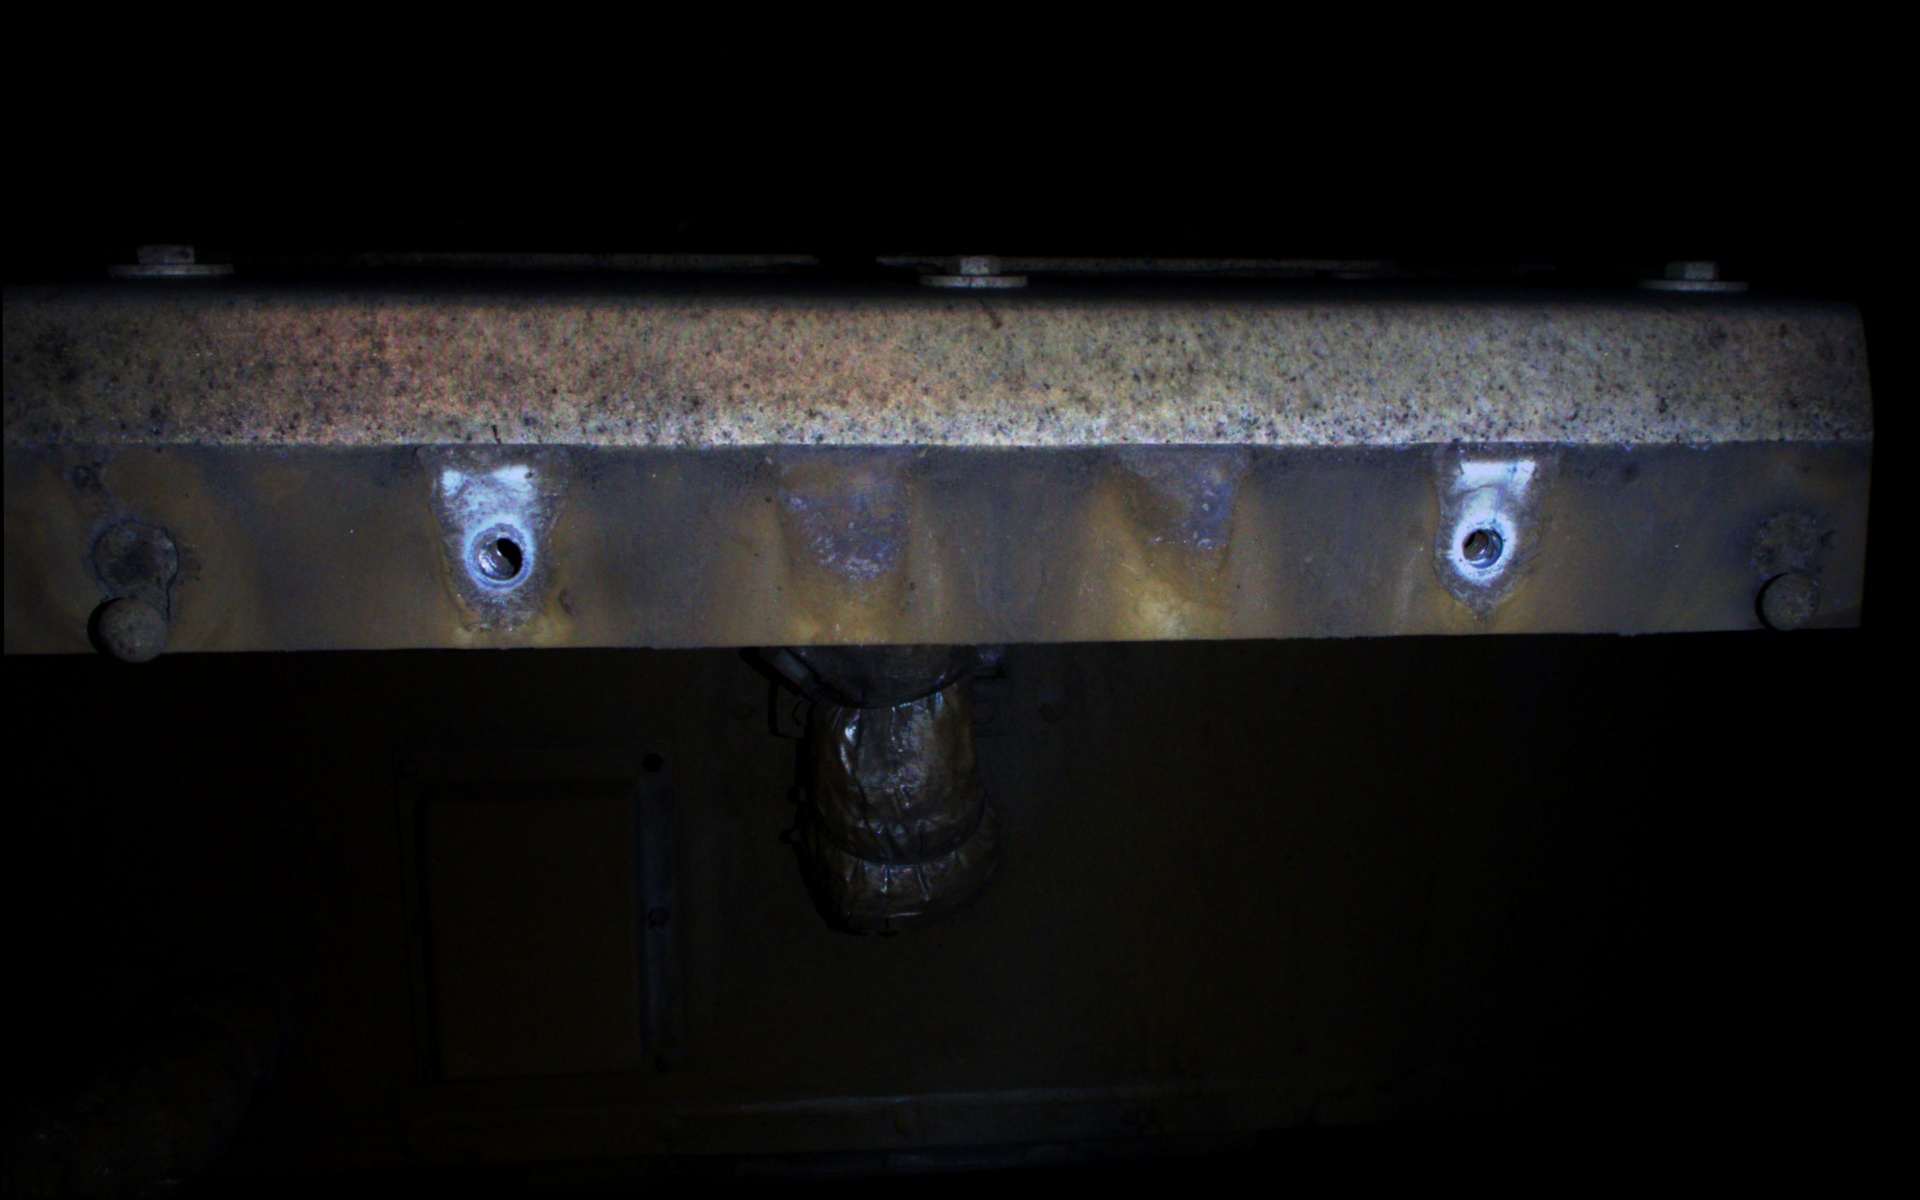BoltHead1: (462, 525, 531, 590)
BoltHead2: (1444, 512, 1515, 578)
